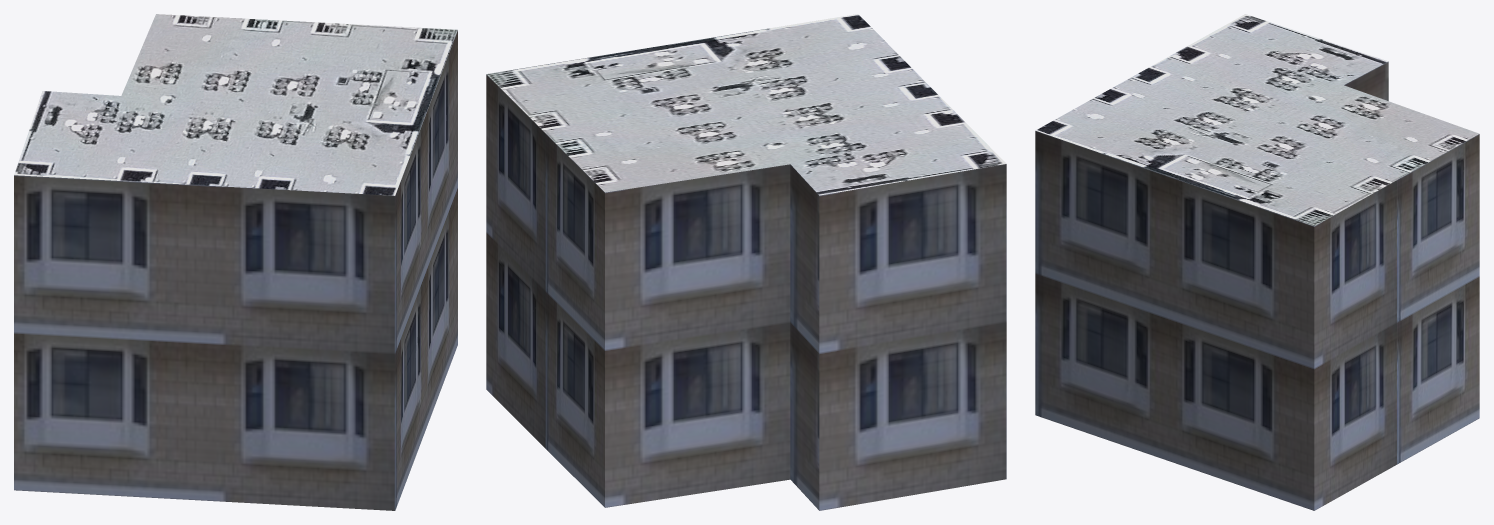
Rendered from ResTex__175.fbx.
3 renders of one model, left to right at view 1: azimuth 30°, elevation 25°; view 2: azimuth 150°, elevation 25°; view 3: azimuth 270°, elevation 25°, orthographic. The views are drawn at different scales.
Visible parts, largest first — view 1: CityEngineMaterial_3_m, CityEngineMaterial_2_m; view 2: CityEngineMaterial_3_m, CityEngineMaterial_2_m; view 3: CityEngineMaterial_3_m, CityEngineMaterial_2_m.
Part boxes in pixels (box(x1,y1,x2,y2)): CityEngineMaterial_3_m: box(14, 30, 457, 510); CityEngineMaterial_2_m: box(14, 14, 457, 195); CityEngineMaterial_3_m: box(486, 74, 1006, 510); CityEngineMaterial_2_m: box(486, 14, 1006, 195); CityEngineMaterial_3_m: box(1035, 61, 1479, 510); CityEngineMaterial_2_m: box(1035, 14, 1479, 226).
Size of the model in its own units: 9.61 by 6 by 8.49.
2 materials, 2 textured.
